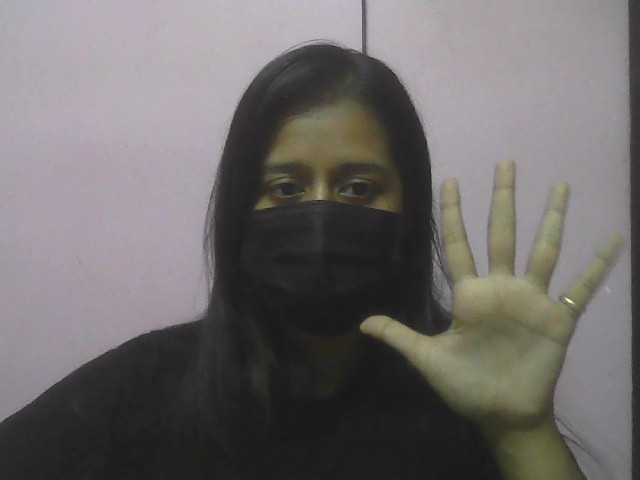Hello: (356, 153, 632, 439)
